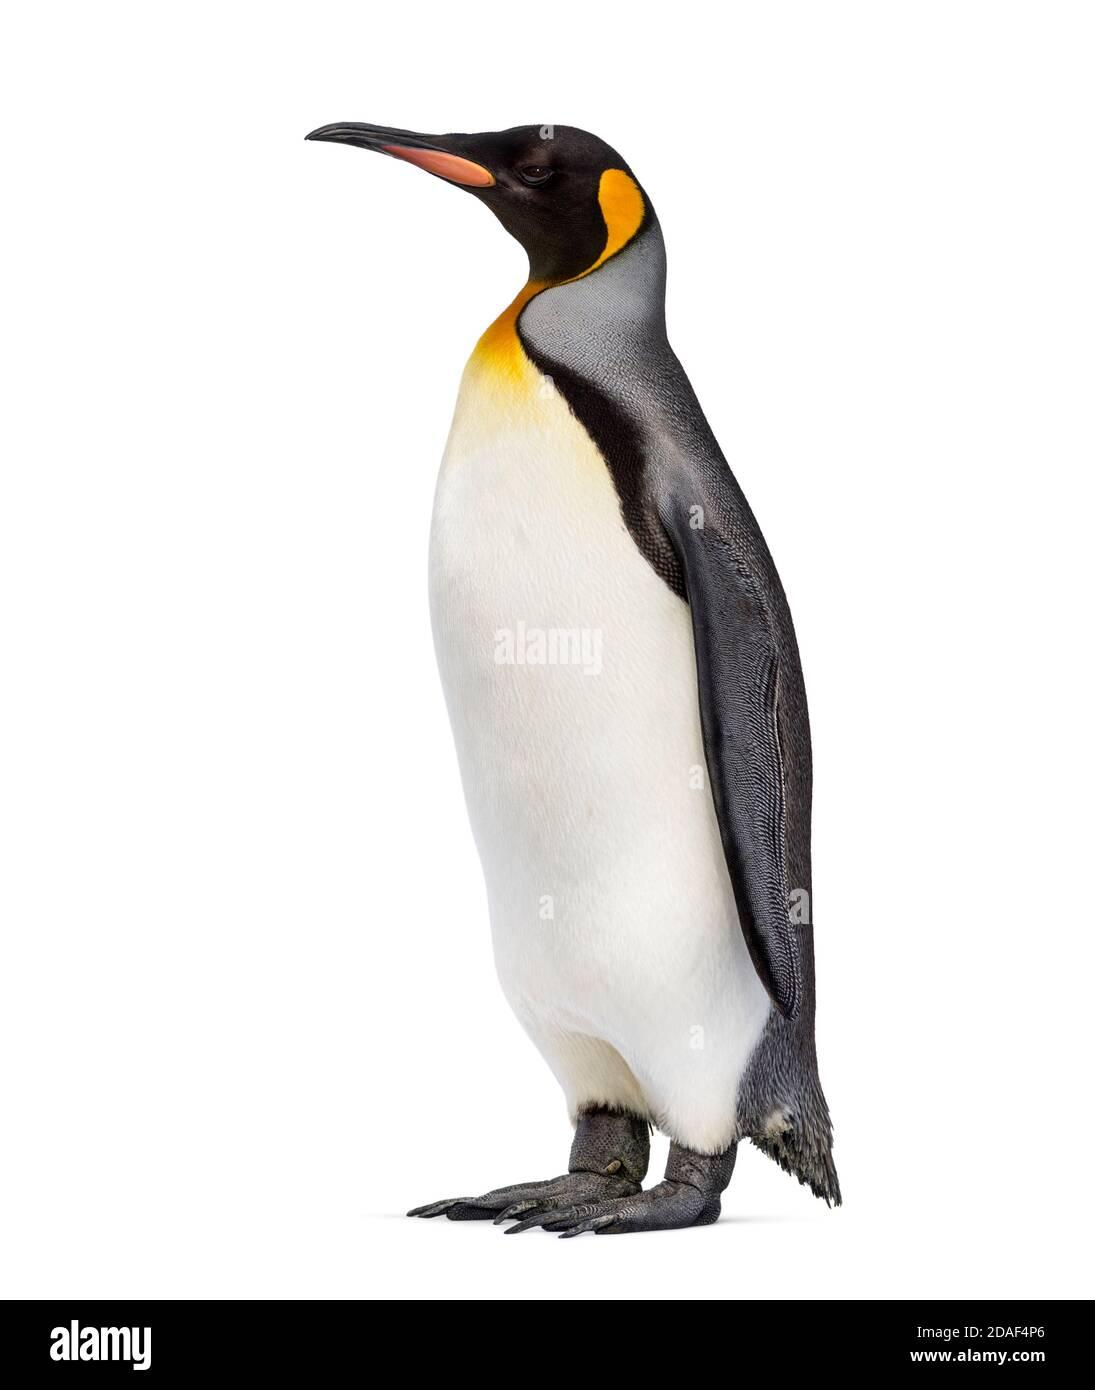king: (271, 90, 880, 1257)
